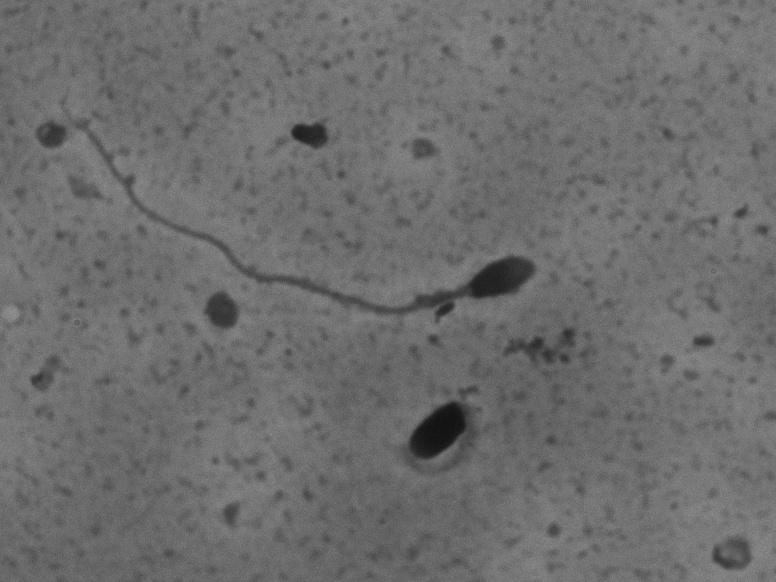Abnormal: (47, 91, 544, 329), (365, 369, 497, 489)
